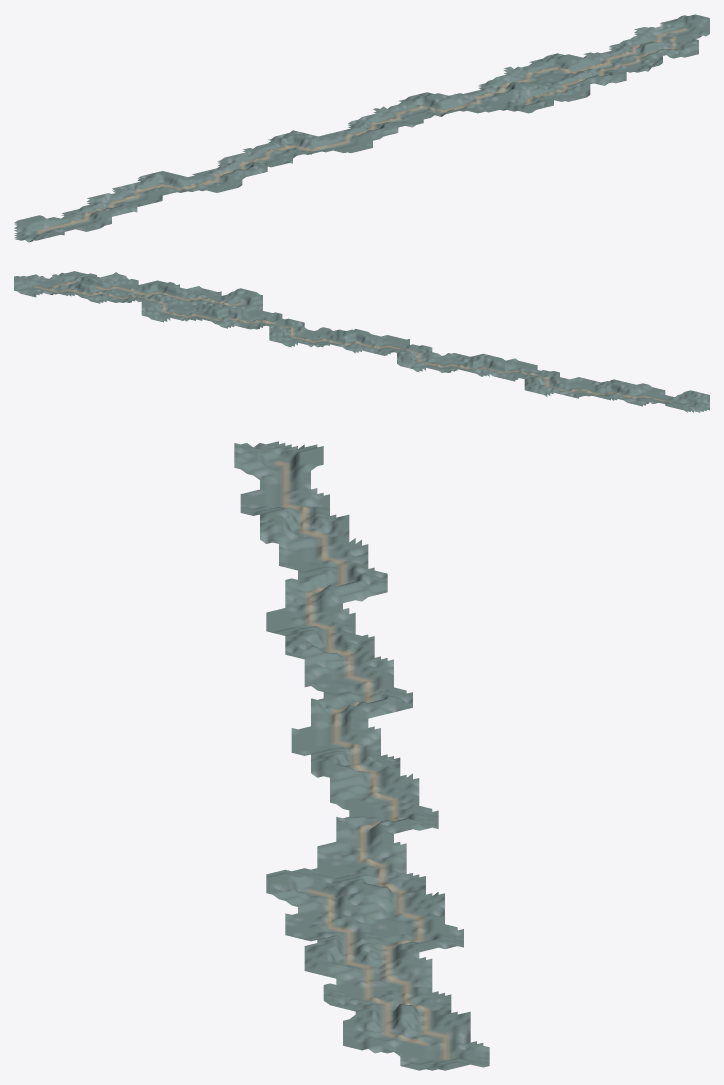
File: terrain.glb
The picture shows the model from 3 angles, top to bottom: view 1: azimuth 30°, elevation 25°; view 2: azimuth 150°, elevation 25°; view 3: azimuth 270°, elevation 25°; orthographic projection. The views are drawn at different scales.
Parts seen in each view (by area): view 1: NATURAL_13_-2, NATURAL_10_-2, NATURAL_14_-2, NATURAL_3_-1, NATURAL_4_-1, NATURAL_15_-2, NATURAL_12_-1, NATURAL_2_-1, NATURAL_11_-1, NATURAL_12_-2, NATURAL_7_-1, NATURAL_9_-2 (+14 smaller); view 2: NATURAL_15_-2, NATURAL_11_-1, NATURAL_12_-2, NATURAL_13_-2, NATURAL_4_-1, NATURAL_2_-1, NATURAL_5_-1, NATURAL_10_-2, NATURAL_3_-1, NATURAL_14_-2, NATURAL_1_-1, NATURAL_12_-1 (+20 smaller); view 3: NATURAL_14_-2, NATURAL_15_-2, NATURAL_12_-2, NATURAL_2_-1, NATURAL_4_-1, NATURAL_13_-2, NATURAL_12_-1, NATURAL_11_-1, NATURAL_5_-1, NATURAL_9_-2, NATURAL_3_-1, NATURAL_10_-2 (+16 smaller).
Part boxes in pixels (x1,y1,x2,y2): NATURAL_13_-2: [518, 58, 603, 83]; NATURAL_10_-2: [395, 92, 473, 115]; NATURAL_14_-2: [562, 52, 647, 73]; NATURAL_3_-1: [127, 174, 212, 198]; NATURAL_4_-1: [174, 169, 252, 190]; NATURAL_15_-2: [605, 41, 690, 62]; NATURAL_12_-1: [518, 83, 590, 101]; NATURAL_2_-1: [87, 189, 162, 207]; NATURAL_11_-1: [478, 89, 553, 111]; NATURAL_12_-2: [478, 70, 560, 92]; NATURAL_7_-1: [301, 136, 372, 152]; NATURAL_9_-2: [362, 105, 430, 124]; NATURAL_15_-2: [74, 274, 112, 301]; NATURAL_11_-1: [228, 290, 266, 320]; NATURAL_12_-2: [189, 301, 227, 328]; NATURAL_13_-2: [151, 293, 189, 318]; NATURAL_4_-1: [496, 357, 534, 382]; NATURAL_2_-1: [572, 377, 610, 400]; NATURAL_5_-1: [457, 353, 495, 376]; NATURAL_10_-2: [266, 320, 304, 346]; NATURAL_3_-1: [534, 367, 572, 395]; NATURAL_14_-2: [113, 283, 151, 306]; NATURAL_1_-1: [611, 382, 649, 406]; NATURAL_12_-1: [189, 286, 227, 306]; NATURAL_14_-2: [355, 940, 432, 1004]; NATURAL_15_-2: [355, 986, 432, 1042]; NATURAL_12_-2: [355, 876, 432, 929]; NATURAL_2_-1: [279, 514, 355, 570]; NATURAL_4_-1: [279, 584, 355, 642]; NATURAL_13_-2: [355, 906, 432, 967]; NATURAL_12_-1: [285, 884, 355, 939]; NATURAL_11_-1: [279, 853, 355, 905]; NATURAL_5_-1: [285, 631, 355, 679]; NATURAL_9_-2: [355, 764, 419, 817]; NATURAL_3_-1: [279, 555, 355, 612]; NATURAL_10_-2: [355, 800, 432, 853].
Bounding box in the file's own units: 383 × 2.9 × 64.8.
